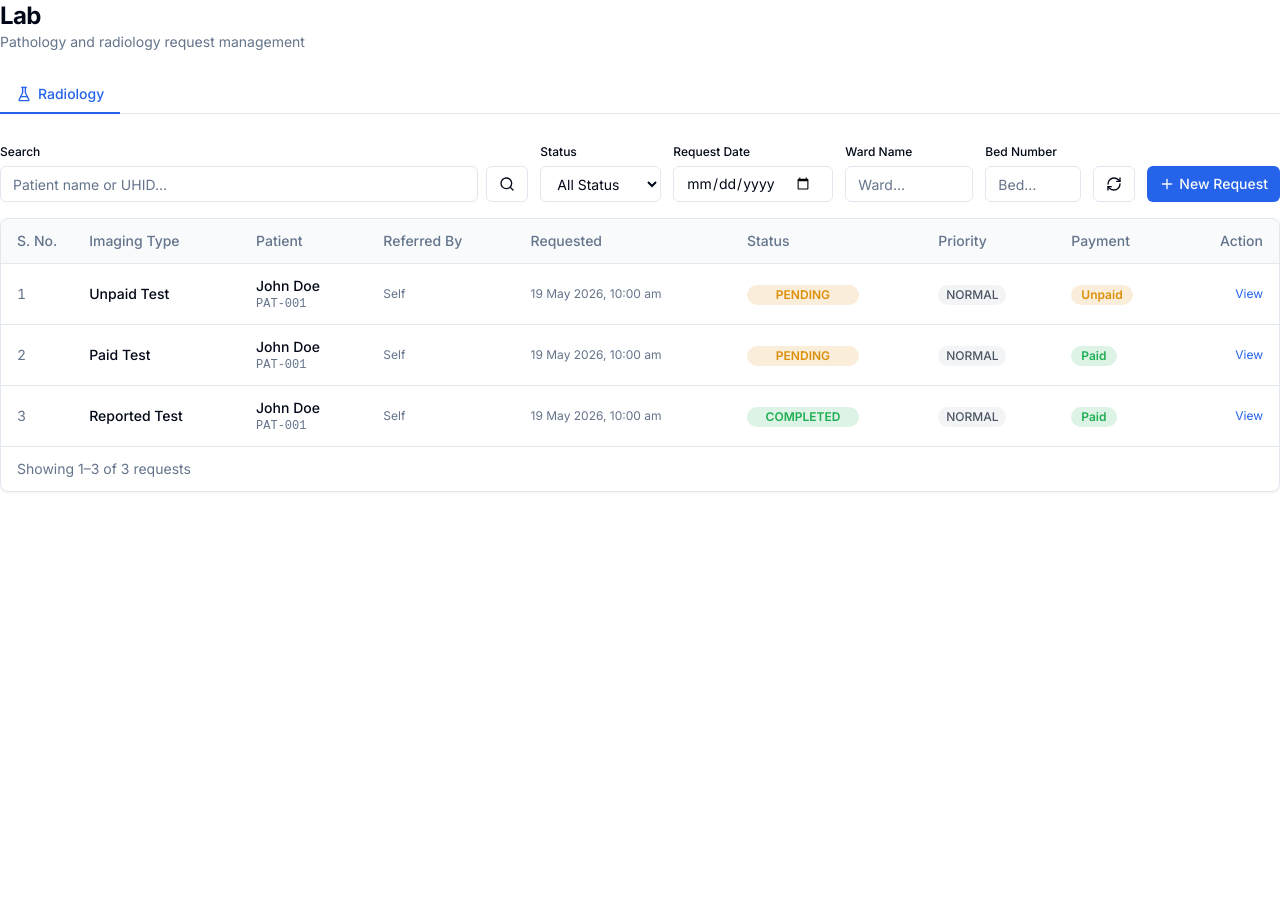
Lab radiology — report upload & display › unpaid request: "No report uploaded" (Radiology only) and no Upload Report button
Click the button "Radiology" at [60, 95], box [0,76,120,114]
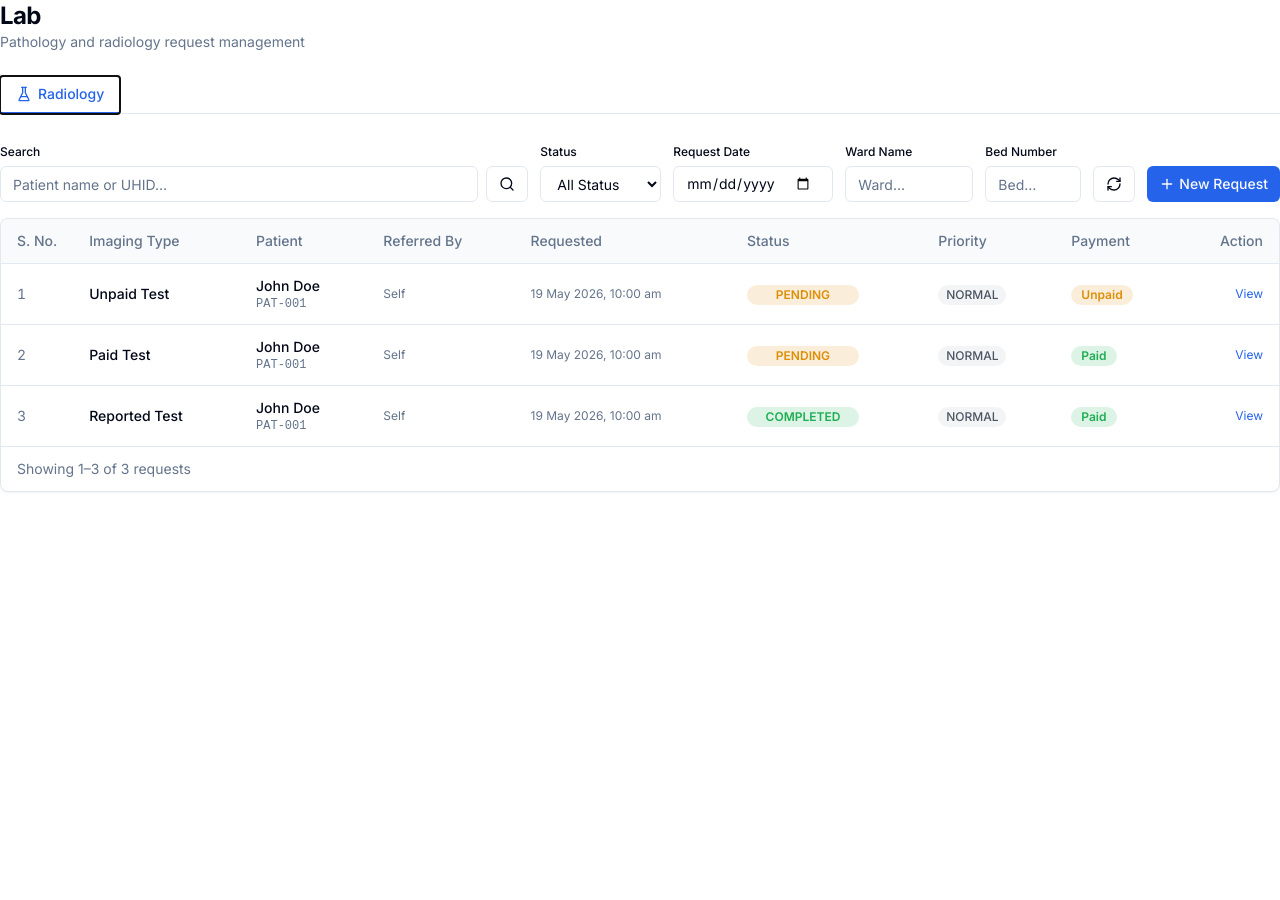
Click the button "View" in the row of "Unpaid Test" at [1249, 294], box [1235,286,1263,302]
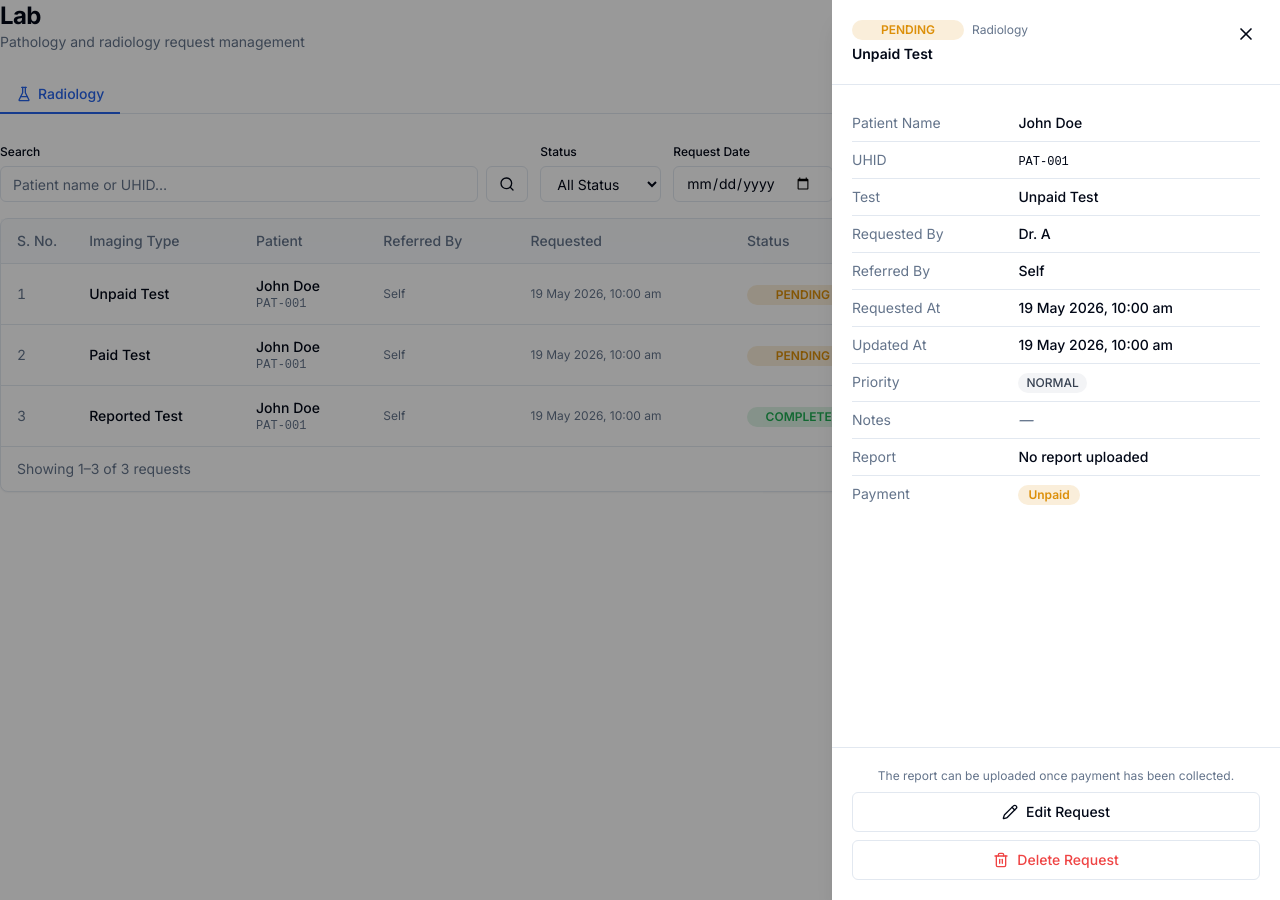
Expected: the text "The report can be uploaded once payment has been collected." is shown, [852,768,1260,784]
